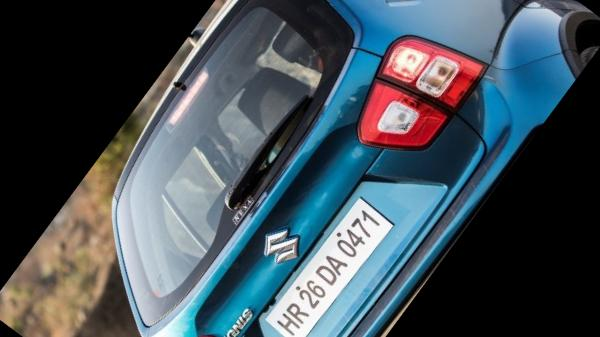plate: (265, 193, 392, 337)
